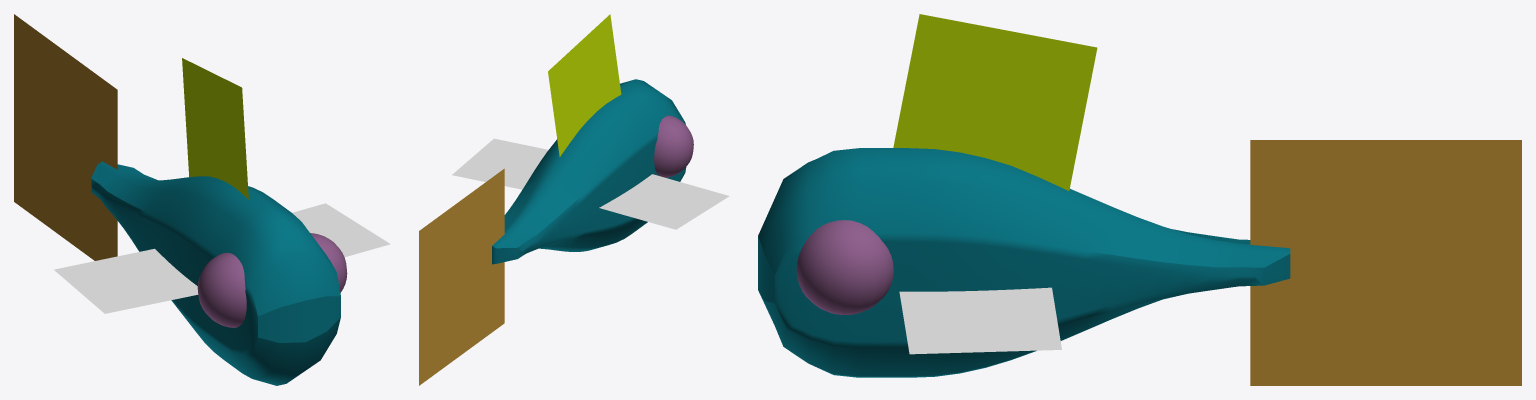
The model's file is Fish 2.fbx.
The picture shows the model from 3 angles, left to right: view 1: azimuth 30°, elevation 25°; view 2: azimuth 150°, elevation 25°; view 3: azimuth 270°, elevation 25°; orthographic projection. The views are drawn at different scales.
Visible parts, largest first — view 1: pCube1, pPlane1, pPlane2, pPlane5, pSphere2, pPlane4, pSphere1; view 2: pCube1, pPlane1, pPlane2, pPlane5, pPlane4, pSphere2; view 3: pPlane1, pCube1, pPlane2, pPlane4, pSphere1.
Boxes of the visible parts, box(x1,y1,x2,y2) form: pCube1: box(91, 161, 340, 385); pPlane1: box(14, 14, 117, 260); pPlane2: box(182, 58, 248, 199); pPlane5: box(54, 248, 198, 313); pSphere2: box(197, 252, 246, 327); pPlane4: box(292, 203, 390, 256); pSphere1: box(310, 233, 347, 292); pCube1: box(492, 79, 686, 264); pPlane1: box(419, 168, 504, 385); pPlane2: box(548, 14, 621, 157); pPlane5: box(599, 174, 729, 229); pPlane4: box(452, 138, 548, 189); pSphere2: box(654, 115, 693, 177); pPlane1: box(1250, 140, 1521, 385); pCube1: box(758, 148, 1290, 377); pPlane2: box(893, 14, 1097, 190); pPlane4: box(899, 287, 1061, 354); pSphere1: box(796, 220, 893, 314).
Bounding box in the file's own units: 8.53 × 8.07 × 15.07.
